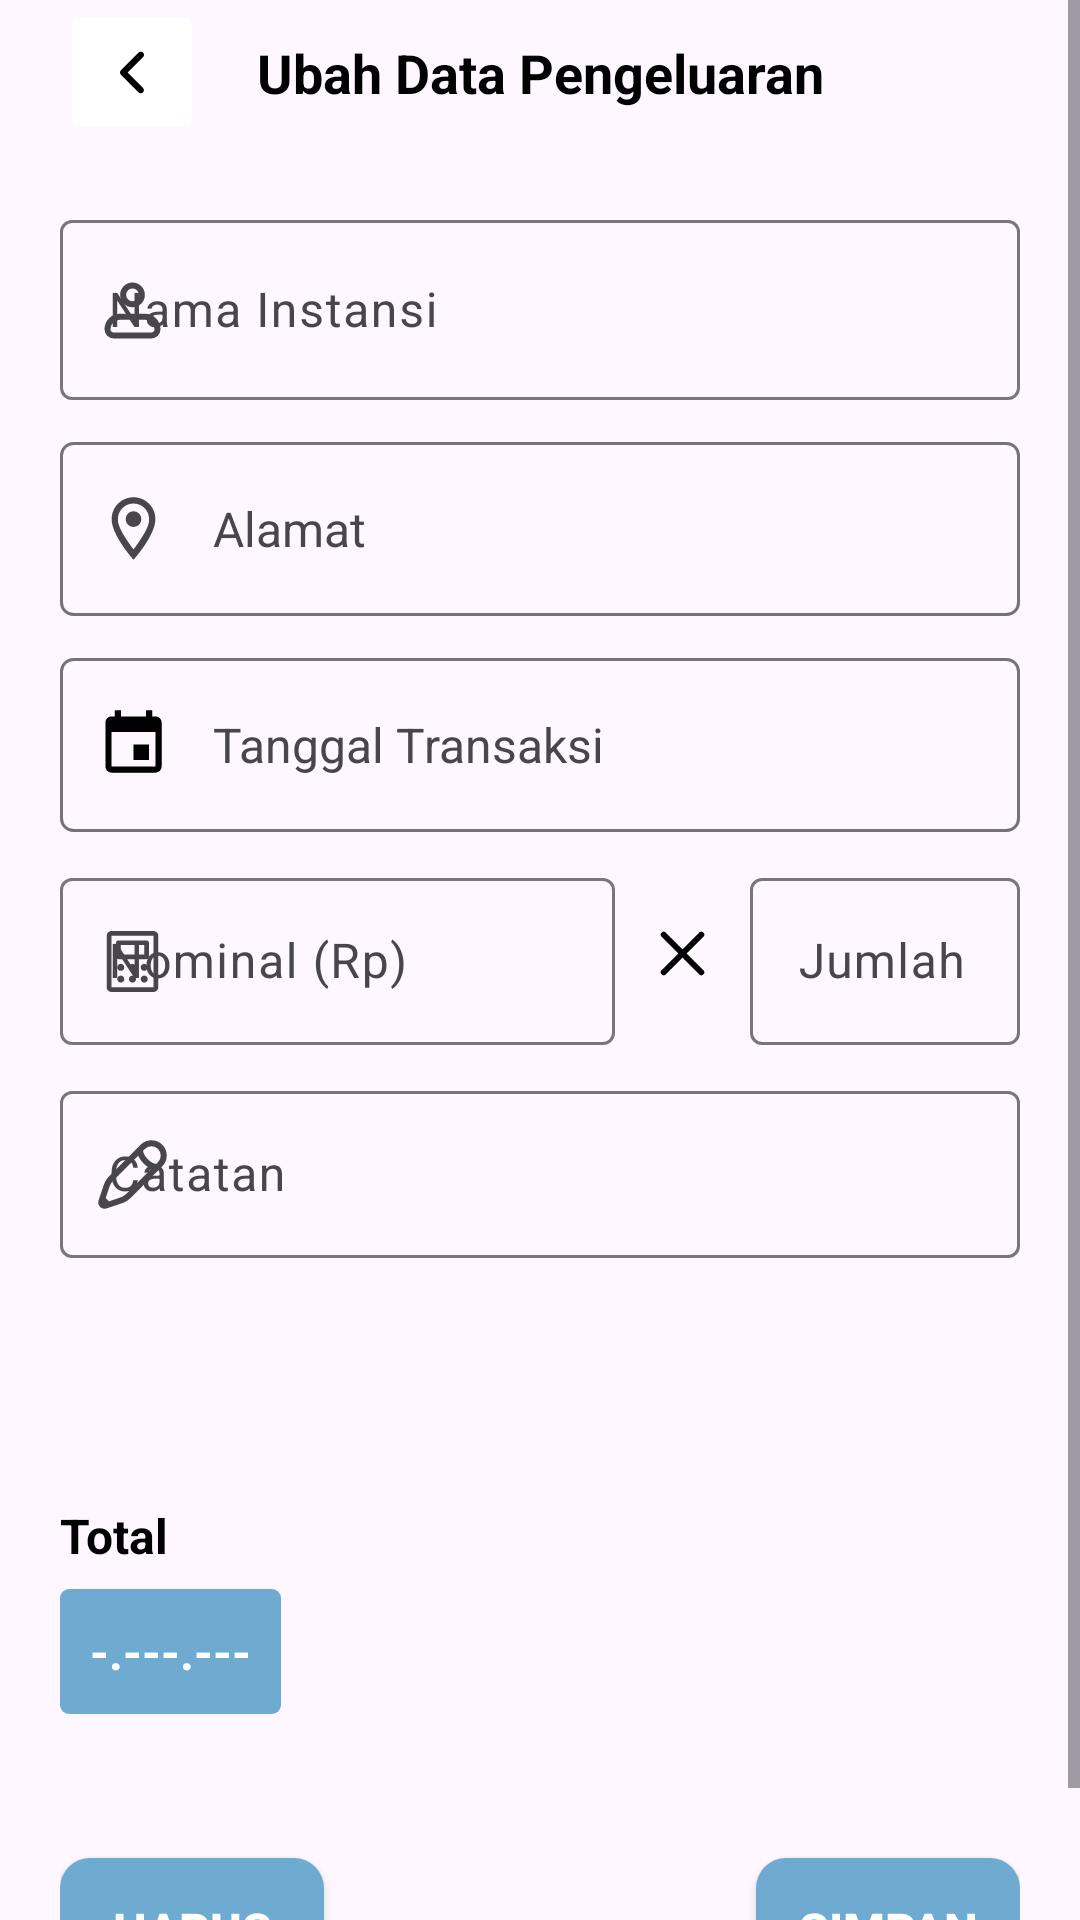

Point at icon controls on the screen. Image size 1080x1920, points as [x,y].
back: [132,72]
